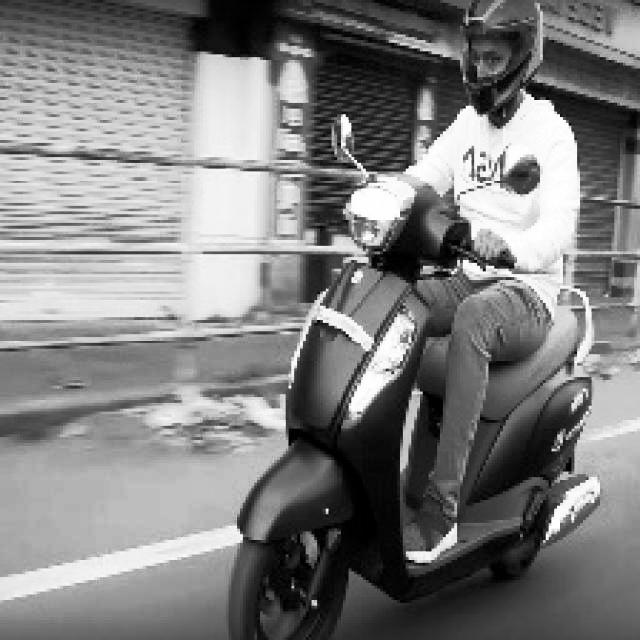Bike: (219, 158, 590, 640)
